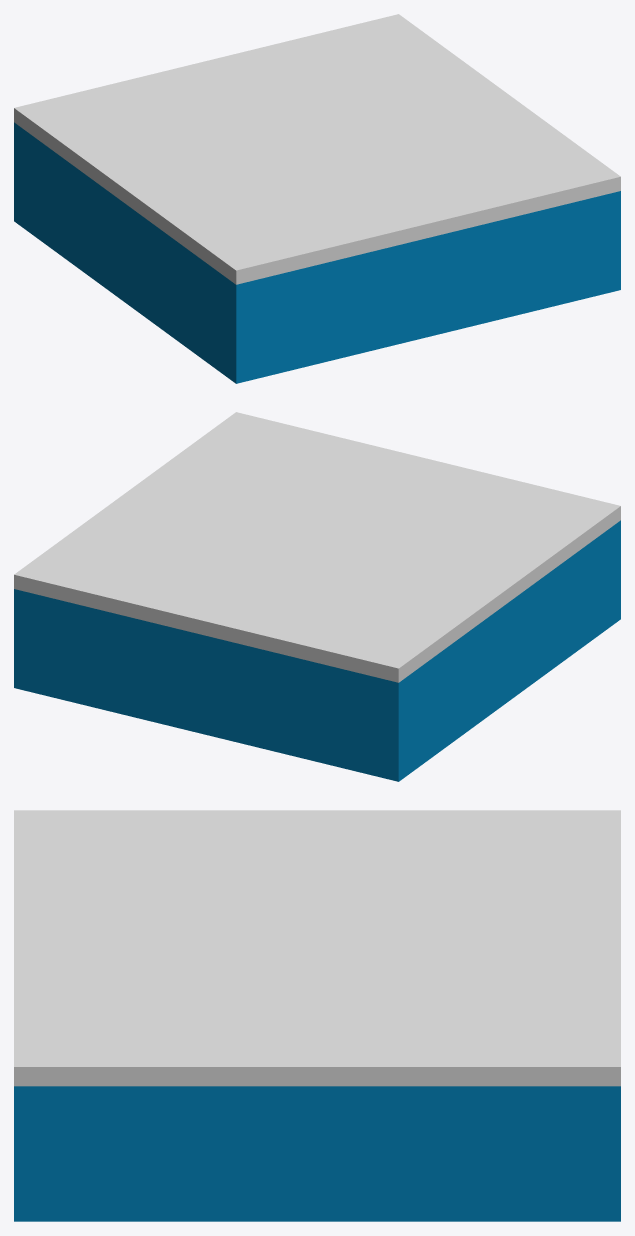
The model's file is PalaiseDesGlaces.fbx.
3 views of the same model, one above another, from view 1: azimuth 30°, elevation 25°; view 2: azimuth 150°, elevation 25°; view 3: azimuth 270°, elevation 25° (orthographic). The views are drawn at different scales.
Visible parts, largest first — view 1: PalaisDesGlaces; view 2: PalaisDesGlaces; view 3: PalaisDesGlaces.
Boxes of the visible parts, box(x1,y1,x2,y2) form: PalaisDesGlaces: box(14, 14, 620, 383); PalaisDesGlaces: box(14, 412, 620, 781); PalaisDesGlaces: box(14, 810, 620, 1221).
Size of the model in its own units: 300 by 300 by 84.43.
